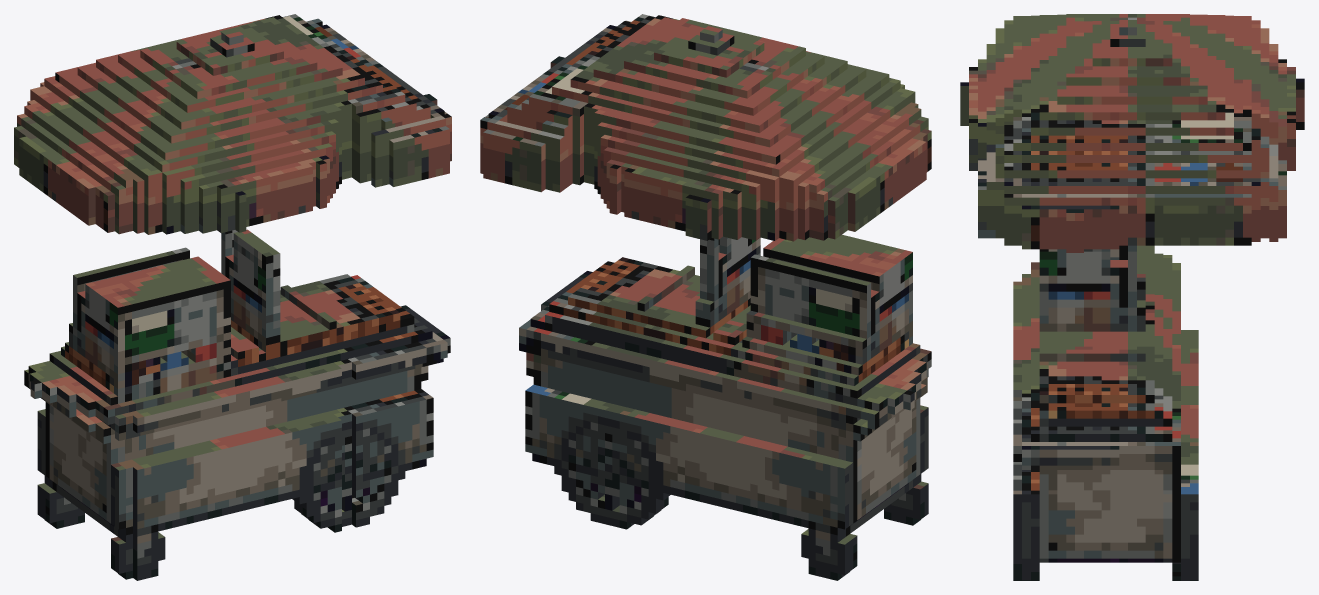
Rendered from city_grill_cart.glb.
The picture shows the model from 3 angles, left to right: view 1: azimuth 30°, elevation 25°; view 2: azimuth 150°, elevation 25°; view 3: azimuth 270°, elevation 25°; orthographic projection. The views are drawn at different scales.
Parts seen in each view (by area): view 1: city_grill_cart; view 2: city_grill_cart; view 3: city_grill_cart.
Boxes of the visible parts, x1,y1,x2,y2 form: city_grill_cart: (14, 14, 451, 580); city_grill_cart: (480, 14, 931, 580); city_grill_cart: (960, 14, 1304, 580).
Bounding box in the file's own units: 1.66 × 2 × 1.22.
